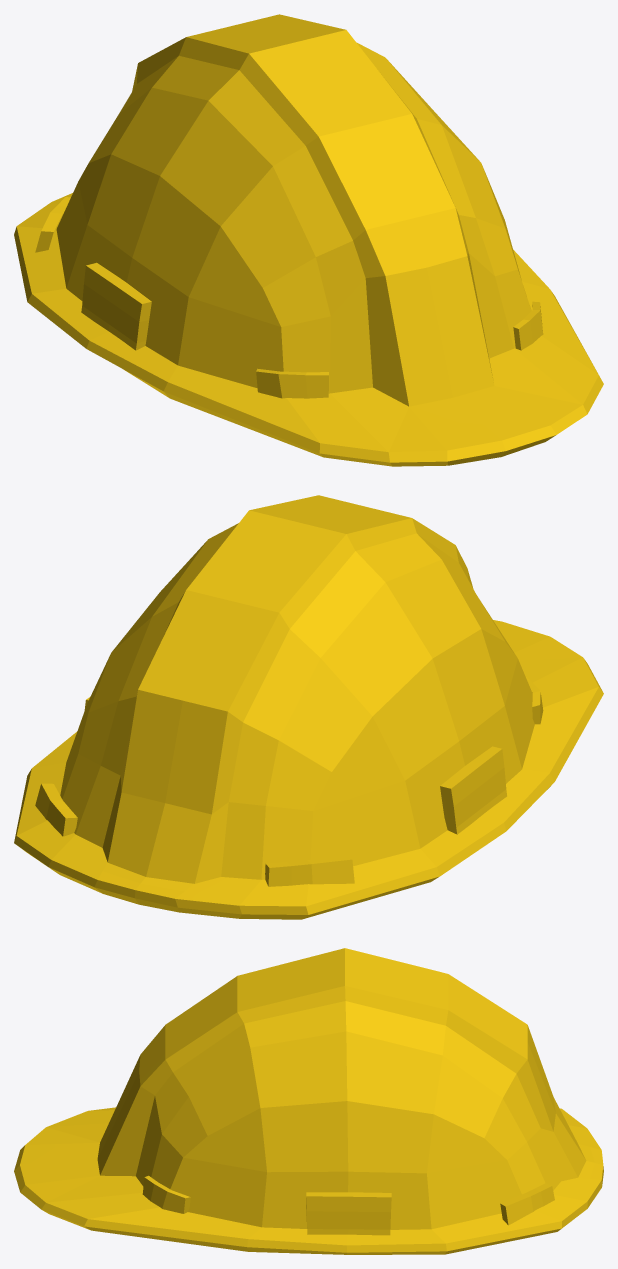
Rendered from Prop_SafetyHelmet.fbx.
3 renders of one model, top to bottom at view 1: azimuth 30°, elevation 25°; view 2: azimuth 150°, elevation 25°; view 3: azimuth 270°, elevation 25°, orthographic. The views are drawn at different scales.
Visible parts, largest first — view 1: Prop_SafetyHelmet; view 2: Prop_SafetyHelmet; view 3: Prop_SafetyHelmet.
Part boxes in pixels (<box>): Prop_SafetyHelmet: <box>14,14,603,466</box>; Prop_SafetyHelmet: <box>14,495,603,919</box>; Prop_SafetyHelmet: <box>14,948,603,1254</box>.
Bounding box in the file's own units: 70.72 × 46.23 × 28.01.
